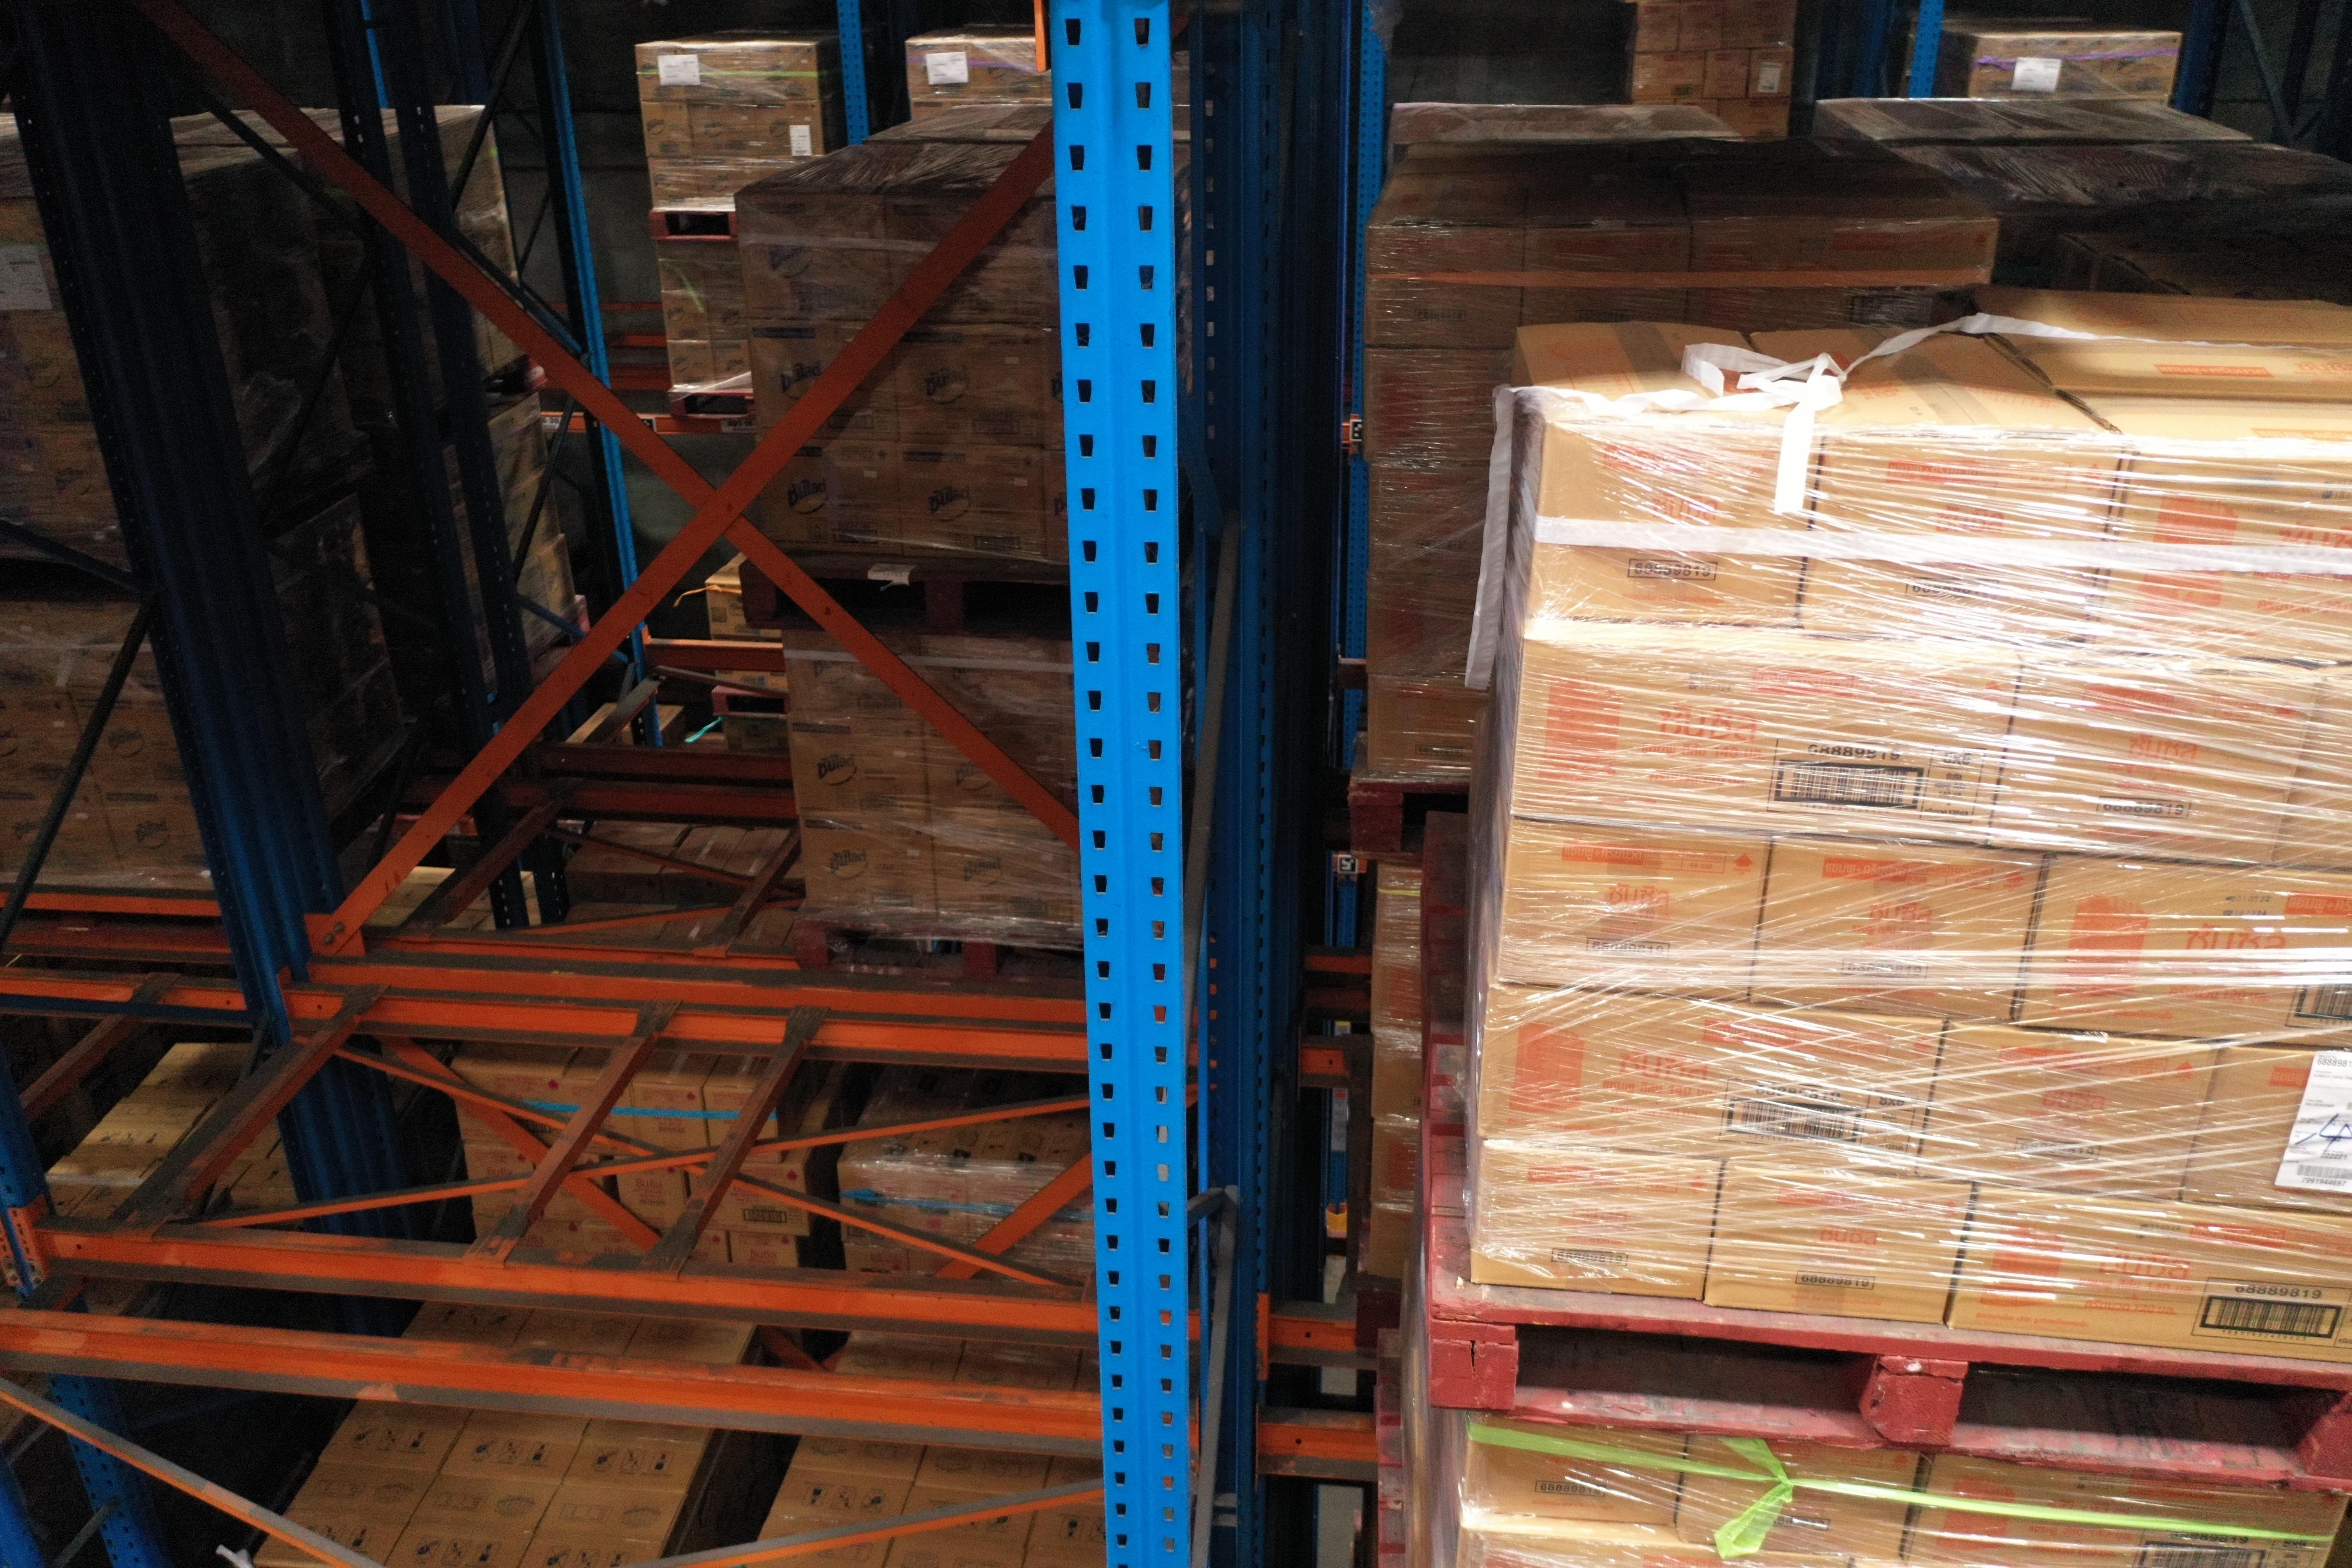-: (1508, 637, 2023, 849), (1477, 987, 1948, 1179), (1944, 1185, 2352, 1365), (1986, 661, 2326, 870), (2011, 849, 2352, 1053), (1794, 439, 2121, 647), (1521, 423, 1825, 632), (2086, 451, 2352, 668), (1746, 836, 2042, 1025), (1921, 1020, 2222, 1206), (1900, 1452, 2352, 1568), (1496, 819, 1773, 1004), (1703, 1162, 1976, 1326), (1470, 1143, 1722, 1300), (1669, 1431, 1925, 1563), (2177, 1039, 2352, 1218), (1459, 1410, 1687, 1528), (2270, 677, 2352, 877)
2: (887, 191, 1050, 327), (731, 191, 891, 325), (892, 322, 1046, 451), (749, 320, 896, 444), (898, 444, 1046, 563), (754, 443, 903, 558), (922, 721, 1066, 828), (931, 819, 1069, 927), (800, 814, 938, 919), (922, 632, 1059, 735), (786, 719, 929, 815), (784, 628, 924, 721)
box: (1363, 224, 1522, 350), (1687, 222, 1865, 329), (1361, 348, 1515, 469), (1519, 226, 1694, 327), (1851, 217, 1998, 332), (1368, 465, 1491, 579), (1363, 577, 1480, 684), (1368, 679, 1487, 779)
